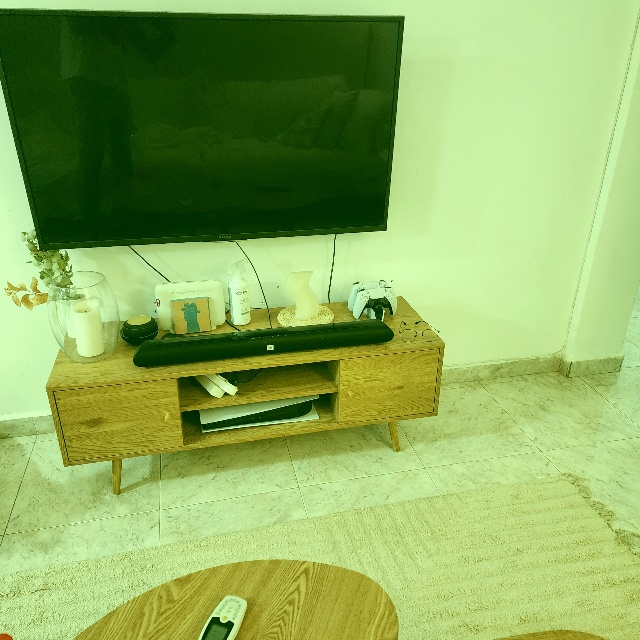glasses: (399, 318, 441, 345)
